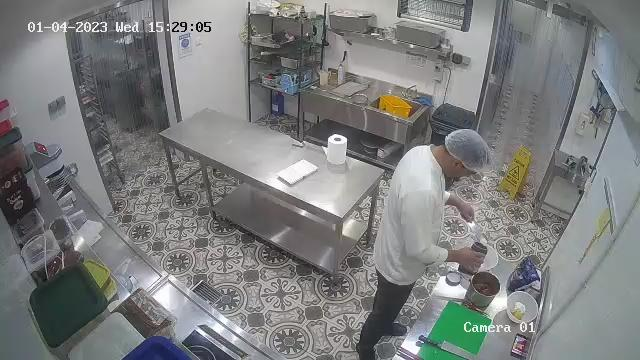no_apron: (407, 166, 453, 293)
